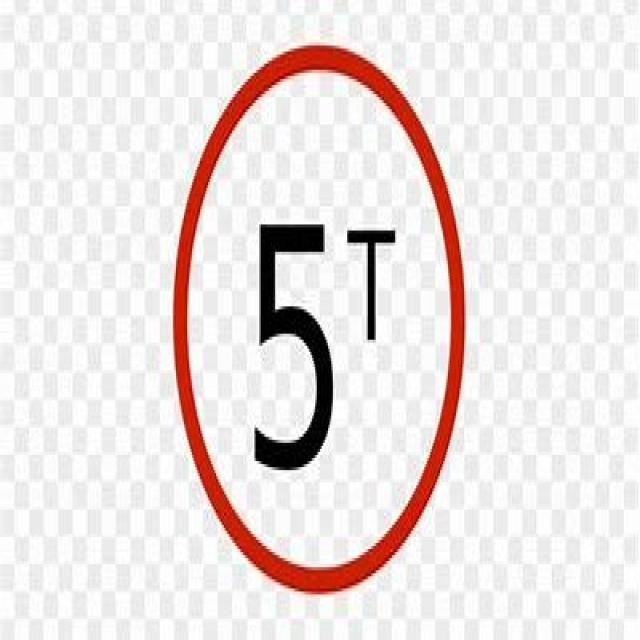load_limit: (173, 42, 464, 594)
